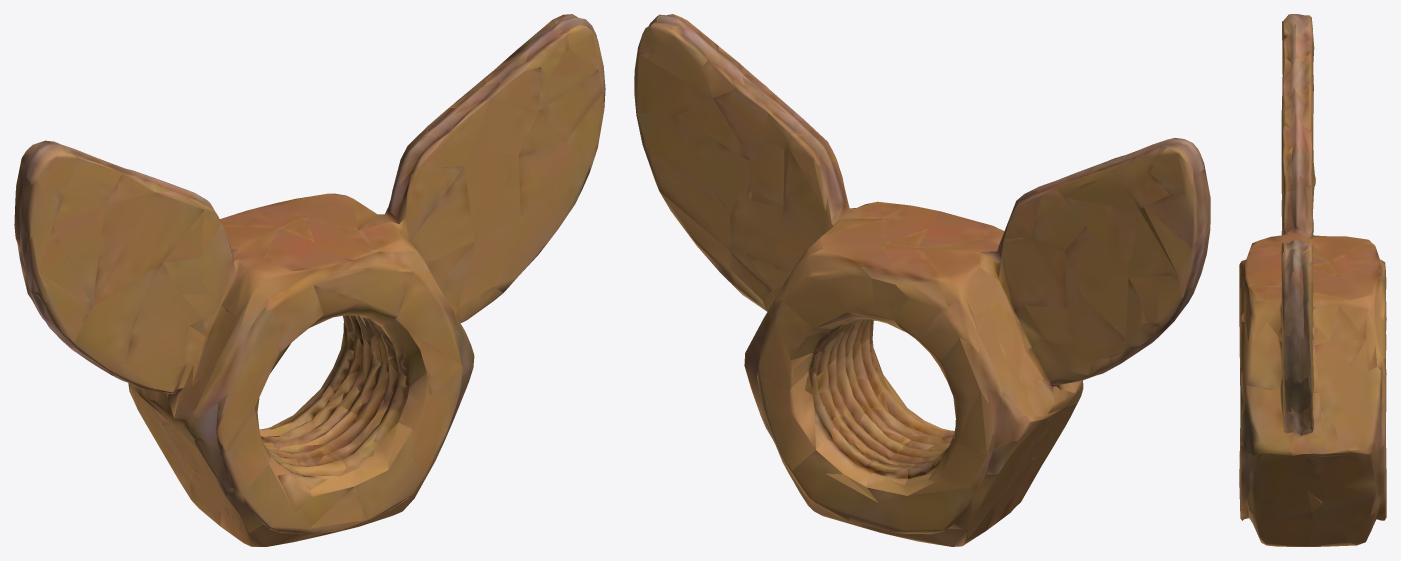
Rendered from token_bolt_v1.glb.
3 renders of one model, left to right at view 1: azimuth 30°, elevation 25°; view 2: azimuth 150°, elevation 25°; view 3: azimuth 270°, elevation 25°, orthographic. The views are drawn at different scales.
Visible parts, largest first — view 1: mesh_node; view 2: mesh_node; view 3: mesh_node.
Boxes of the visible parts, x1,y1,x2,y2 form: mesh_node: (14,14,605,546); mesh_node: (634,14,1210,546); mesh_node: (1239,14,1386,546).
Size of the model in its own units: 0.86 by 0.62 by 0.2147.
Materials: 1 (1 with a texture image).
